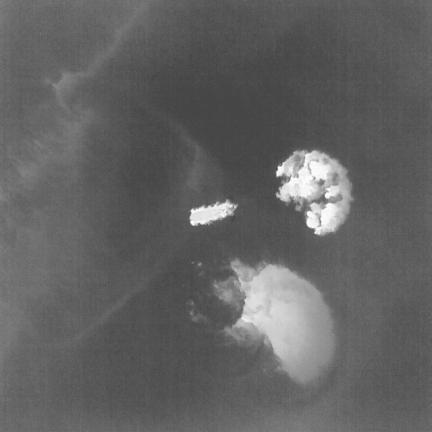flukeprints: (242, 264, 335, 384), (276, 150, 352, 235), (190, 200, 237, 225)
